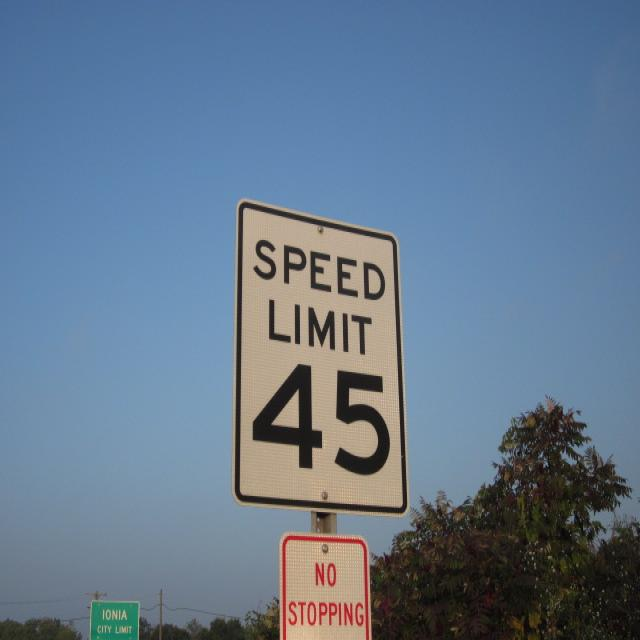regulatory: (222, 193, 416, 525), (271, 524, 376, 640)
